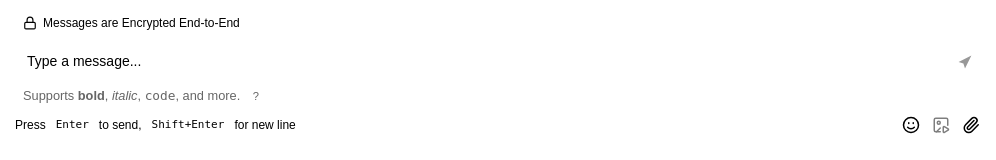
Scenario: MessageInput › enables send button when there is text
This screenshot has width=996, height=160.
Type "Hello" into the text box.
click(484, 62); type("Hello")  # box [27,45,941,79]
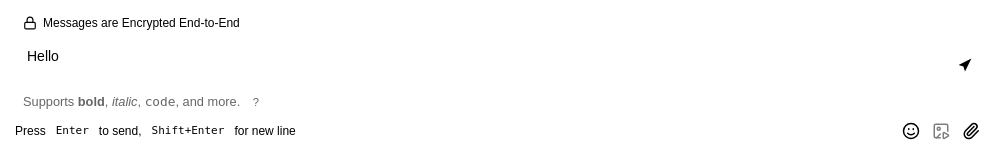
Expected: the button named "Send message" is enabled, [951,51,979,79]
